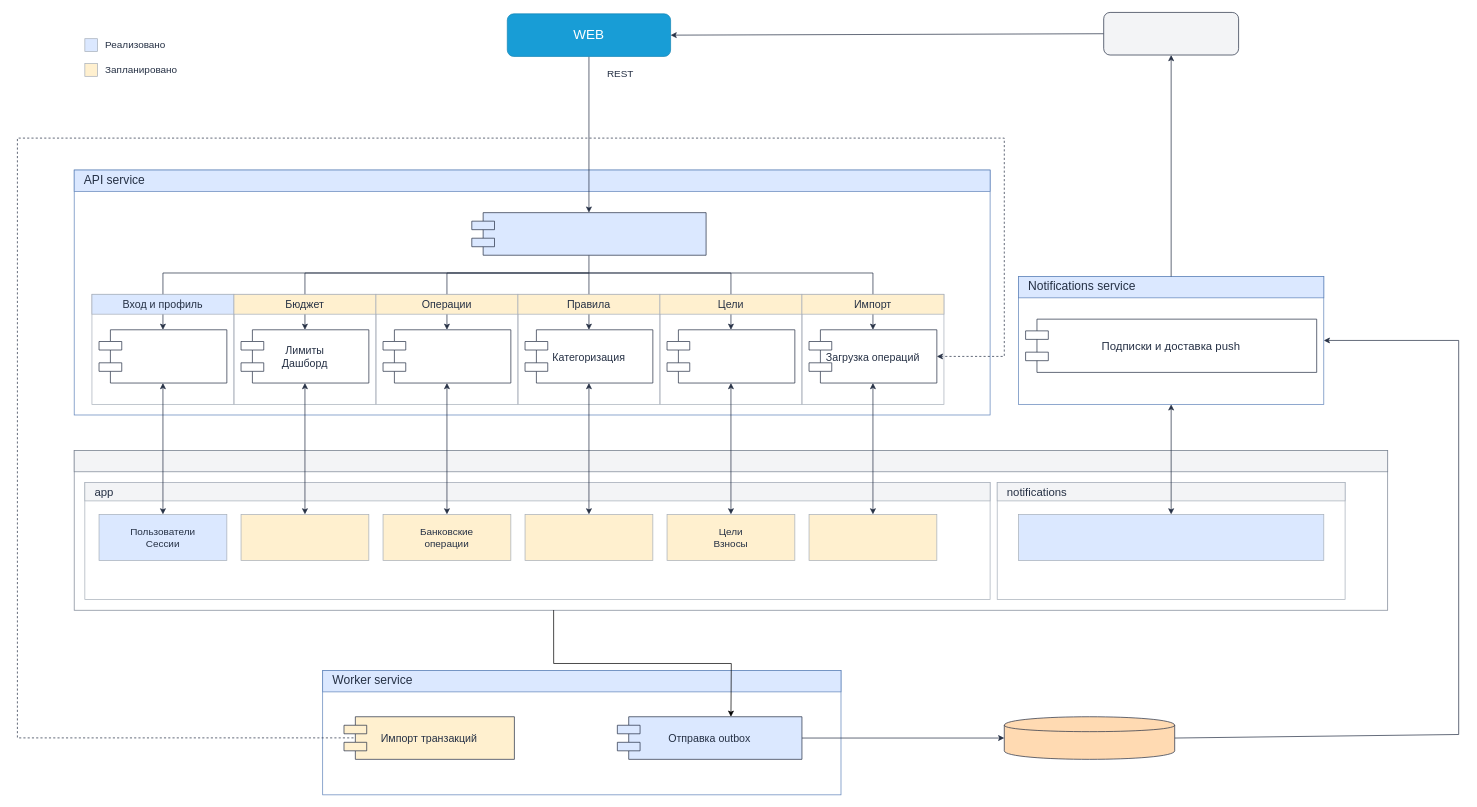
This 1477x807 diagram has some shape labels left out. The shapes that lost their labels are listed below. From the top down, each one's box as (x1, y1, x2, y2) in pixels, then its label:
(1103, 12, 1239, 55): Webpush
(471, 212, 706, 255): JWT
(98, 329, 227, 383): Авторизация
(382, 329, 511, 383): Учёт операций
(666, 329, 795, 383): Накопления
(73, 450, 1388, 472): PostgreSQL
(240, 514, 369, 561): Категории Бюджеты и лимиты
(524, 514, 653, 561): Правила категорий
(808, 514, 937, 561): Транзакции
(1018, 514, 1324, 561): Подписки · inbox · задания доставки
(1004, 716, 1175, 759): Redpanda
